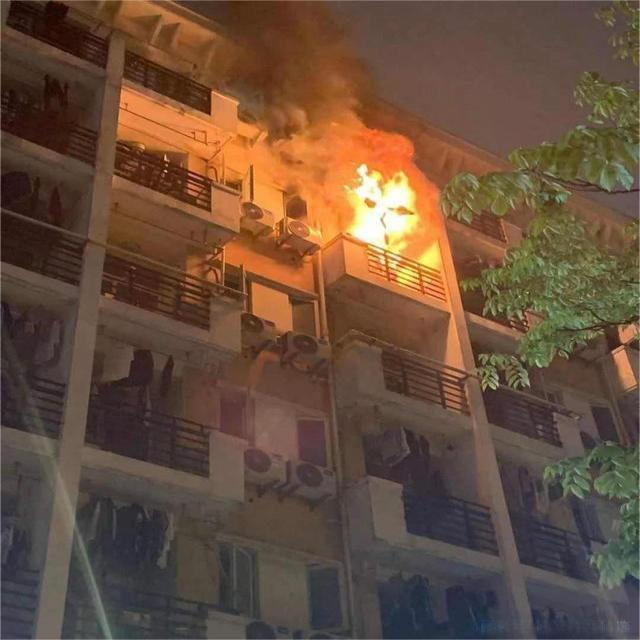Fire: (343, 164, 424, 250)
Smoke: (244, 0, 404, 166)
